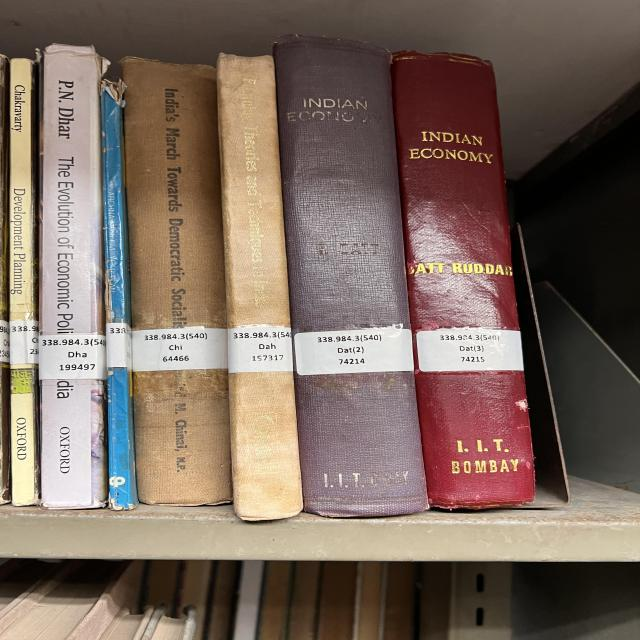Book: (273, 35, 428, 518), (392, 51, 535, 509), (122, 58, 233, 505), (217, 54, 303, 521), (38, 45, 107, 510), (100, 79, 138, 510), (8, 59, 38, 505)
Label: (293, 328, 413, 375), (417, 329, 523, 371), (132, 326, 228, 371), (38, 334, 107, 380), (228, 326, 293, 372), (105, 322, 132, 369), (10, 320, 38, 365)
